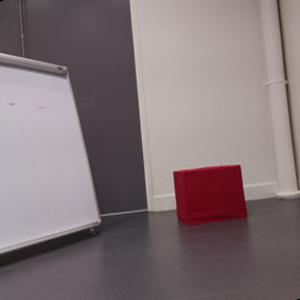big: (1, 57, 98, 254)
medium: (175, 165, 247, 222)
